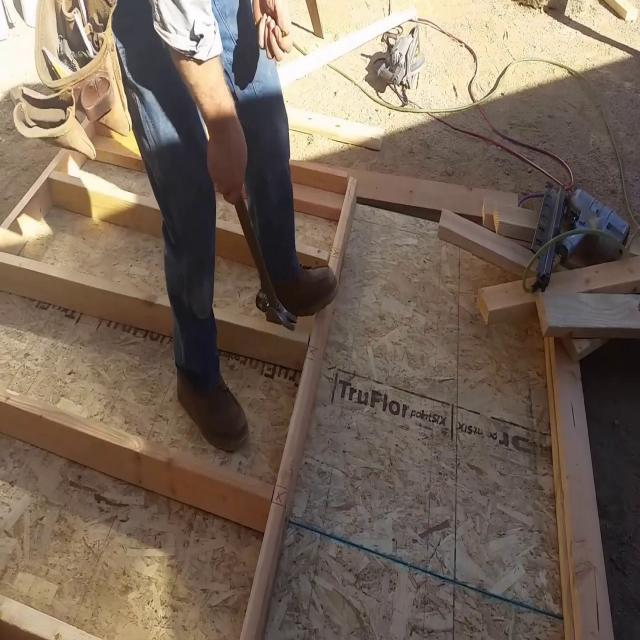hammer: (235, 191, 297, 332)
